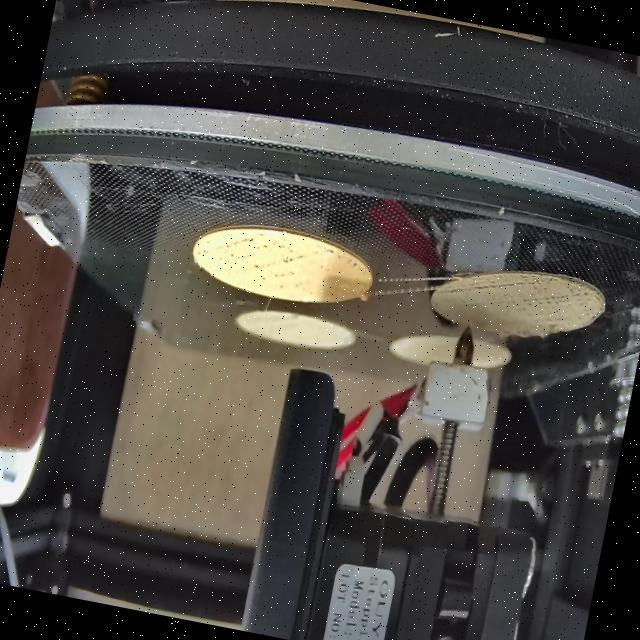under_extrusion: (439, 264, 596, 340), (198, 224, 308, 294), (319, 242, 358, 286)
